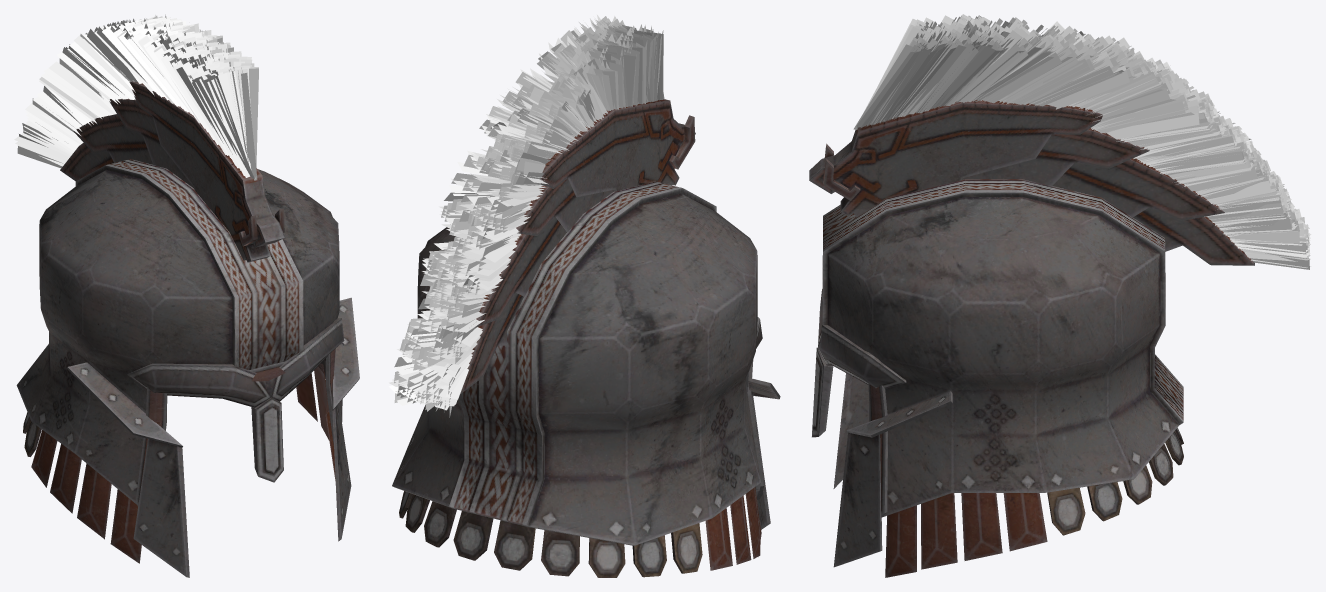
File: sk_dwarf_iron_helmet_elite_d3.fbx
3 renders of one model, left to right at view 1: azimuth 30°, elevation 25°; view 2: azimuth 150°, elevation 25°; view 3: azimuth 270°, elevation 25°, orthographic. The views are drawn at different scales.
Parts seen in each view (by area): view 1: sk_dwarf_iron_helmet_elite_d3.0, sk_dwarf_iron_helmet_elite_d3.1; view 2: sk_dwarf_iron_helmet_elite_d3.0, sk_dwarf_iron_helmet_elite_d3.1; view 3: sk_dwarf_iron_helmet_elite_d3.0, sk_dwarf_iron_helmet_elite_d3.1.
Part boxes in pixels (<box>): sk_dwarf_iron_helmet_elite_d3.0: <box>16,81,359,577</box>; sk_dwarf_iron_helmet_elite_d3.1: <box>14,14,258,180</box>; sk_dwarf_iron_helmet_elite_d3.0: <box>392,99,780,577</box>; sk_dwarf_iron_helmet_elite_d3.1: <box>389,15,664,417</box>; sk_dwarf_iron_helmet_elite_d3.0: <box>809,100,1254,577</box>; sk_dwarf_iron_helmet_elite_d3.1: <box>853,14,1311,269</box>.
Size of the model in its own units: 0.2896 by 0.412 by 0.4524.
